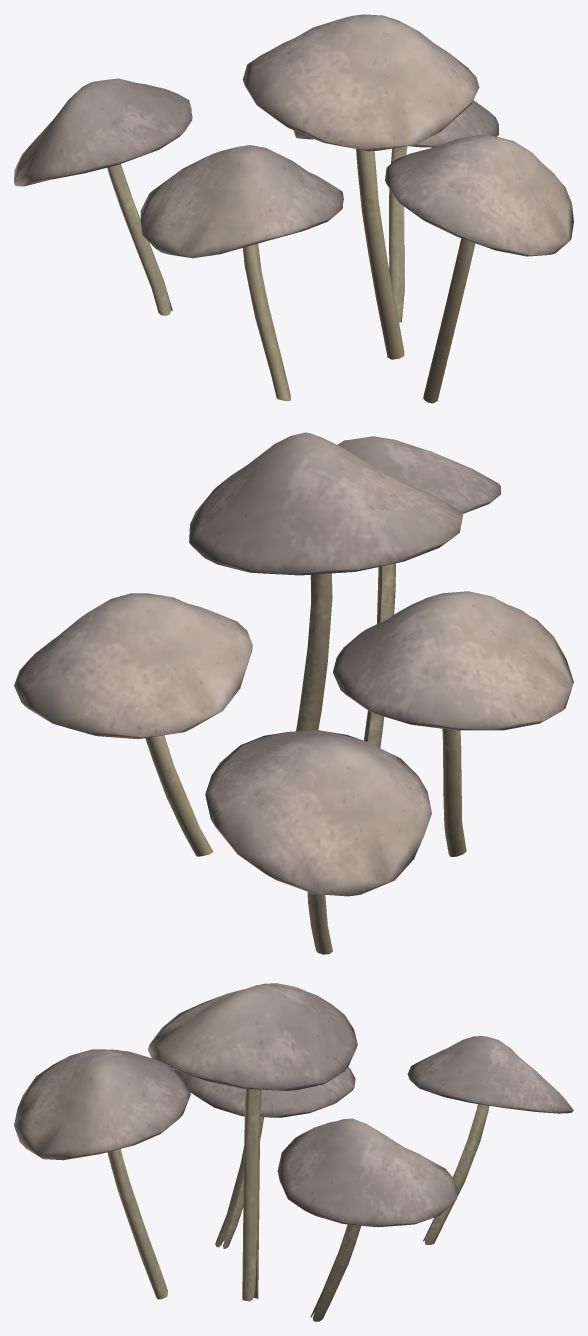
The model's file is Mushroom_Common.gltf.
3 views of the same model, one above another, from view 1: azimuth 30°, elevation 25°; view 2: azimuth 150°, elevation 25°; view 3: azimuth 270°, elevation 25° (orthographic). The views are drawn at different scales.
Parts seen in each view (by area): view 1: Mushroom_Common; view 2: Mushroom_Common; view 3: Mushroom_Common.
Part boxes in pixels (<box>): Mushroom_Common: <box>14,14,573,403</box>; Mushroom_Common: <box>14,432,573,954</box>; Mushroom_Common: <box>14,983,573,1321</box>.
Size of the model in its own units: 0.5461 by 0.4554 by 0.7571.
Materials: 1 (1 with a texture image).
